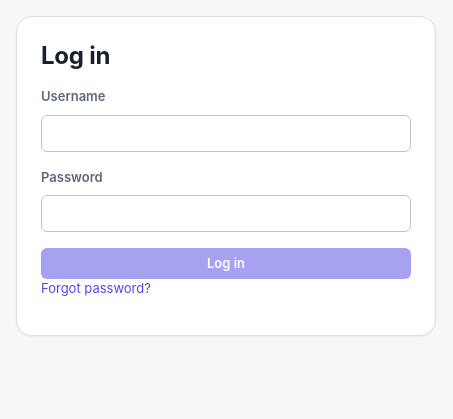
it: LoginComponent › shows the server error message on invalid credentials
In the field named "username": (226, 133) [41,114,411,152], type "alice"
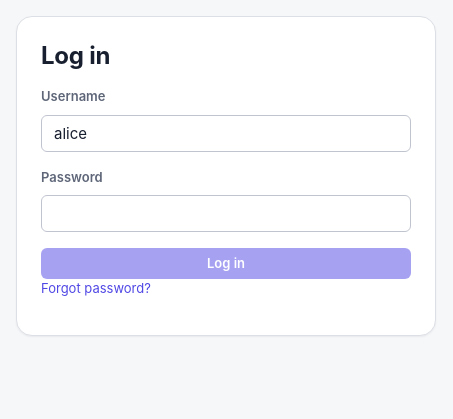
In the password field named "password": (226, 214) [41,195,411,232], type "wrong-password"
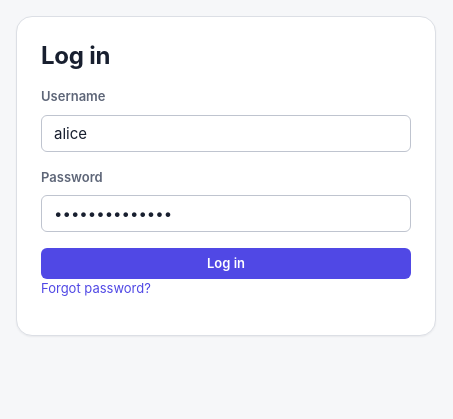
Submit the form, box [41,87,411,279]
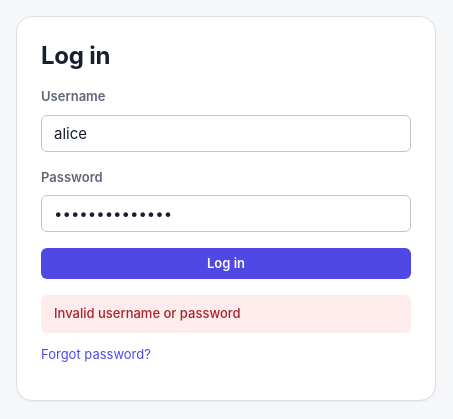
Now the text with class "error" reads "Invalid username or password", box [54,305,241,321]
